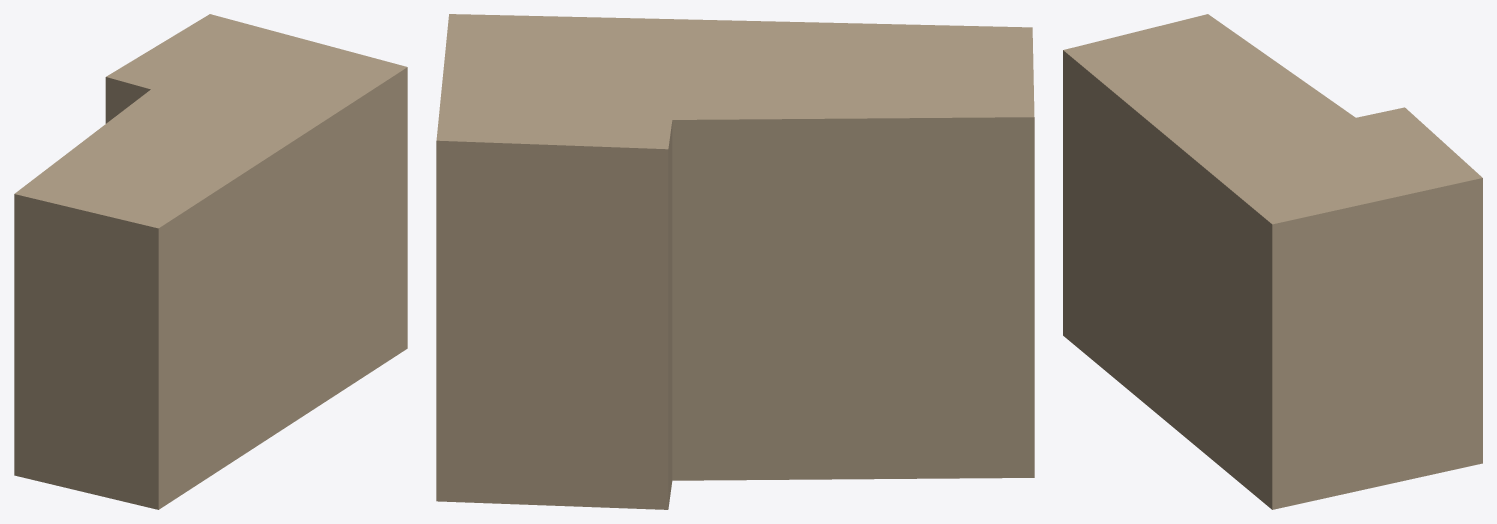
The model's file is bld_99003291.dae.
3 renders of one model, left to right at view 1: azimuth 30°, elevation 25°; view 2: azimuth 150°, elevation 25°; view 3: azimuth 270°, elevation 25°, orthographic. The views are drawn at different scales.
Visible parts, largest first — view 1: The Livermore Partnership; view 2: The Livermore Partnership; view 3: The Livermore Partnership.
Part boxes in pixels (bbox=[...]): The Livermore Partnership: bbox=[14, 14, 407, 509]; The Livermore Partnership: bbox=[436, 14, 1034, 509]; The Livermore Partnership: bbox=[1063, 14, 1482, 509].
Size of the model in its own units: 12.64 by 10.66 by 8.
